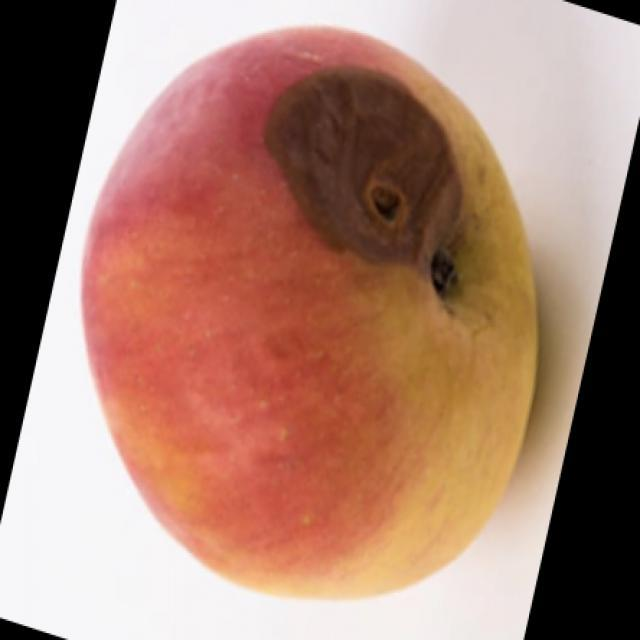Rotten: (77, 37, 528, 598)
